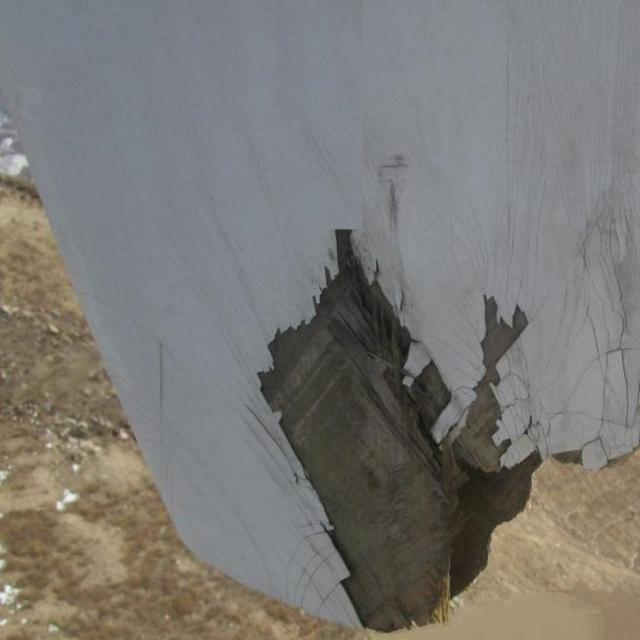crack: (252, 222, 640, 630)
